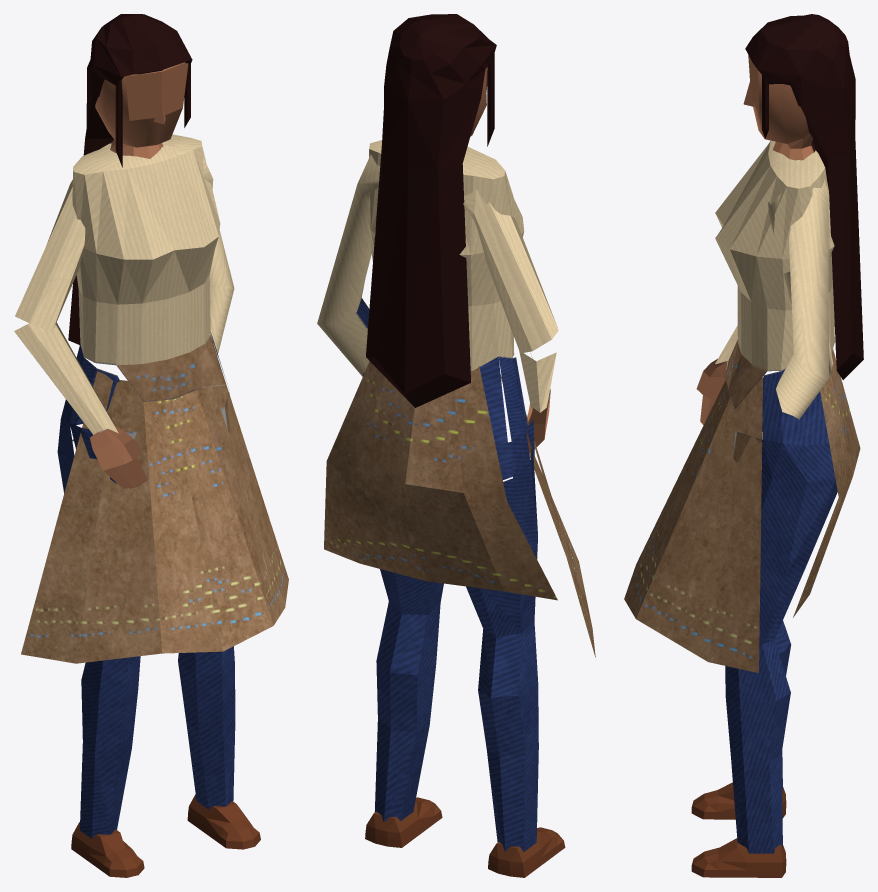
Rendered from woman2.gltf.
The picture shows the model from 3 angles, left to right: view 1: azimuth 30°, elevation 25°; view 2: azimuth 150°, elevation 25°; view 3: azimuth 270°, elevation 25°; orthographic projection. The views are drawn at different scales.
Visible parts, largest first — view 1: Torso; view 2: Torso; view 3: Torso.
Boxes of the visible parts, x1,y1,x2,y2 form: Torso: [14, 14, 288, 877]; Torso: [317, 14, 595, 877]; Torso: [624, 14, 863, 877].
Size of the model in its own units: 314 by 911 by 241.
Materials: 1 (1 with a texture image).
